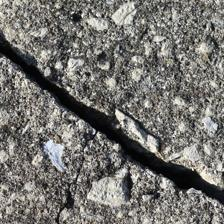Crack: (3, 16, 216, 189)
